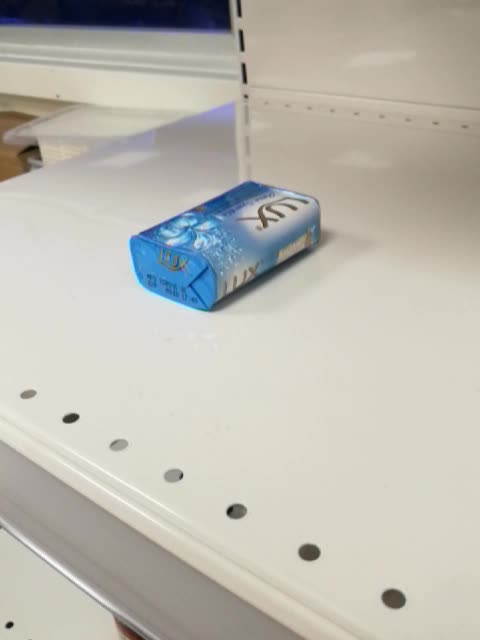soap: (124, 178, 325, 315)
